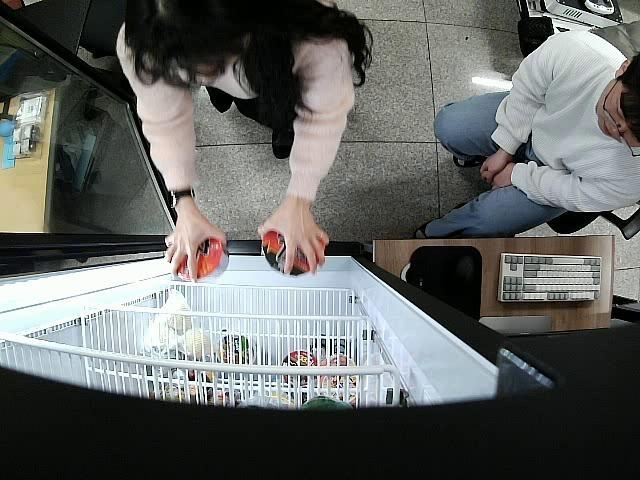01_ShinRamen_L: (263, 227, 325, 281), (177, 237, 233, 285)
